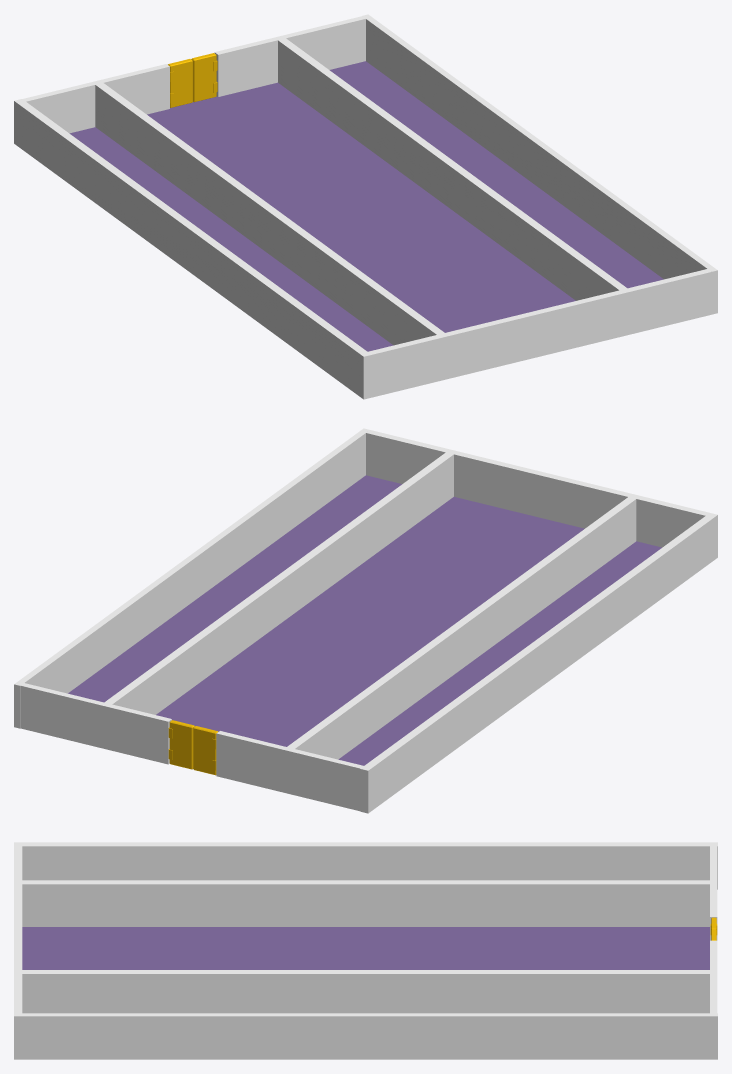
Rendered from maps_93.fbx.
3 renders of one model, top to bottom at view 1: azimuth 30°, elevation 25°; view 2: azimuth 150°, elevation 25°; view 3: azimuth 270°, elevation 25°, orthographic.
Visible parts, largest first — view 1: wall_01_08_geo, wall_01_07_geo, wall_01_07_geo3, wall_01_07_geo2, wall_01_06_geo, wall_01_05_geo, wall_01_09_geo1, wall_01_09_geo, polySurface161, polySurface165; view 2: wall_01_08_geo, wall_01_07_geo, wall_01_07_geo3, wall_01_07_geo2, wall_01_06_geo, wall_01_05_geo, wall_01_09_geo1, wall_01_09_geo, polySurface161, polySurface165; view 3: wall_01_06_geo, wall_01_07_geo3, wall_01_07_geo2, wall_01_08_geo, wall_01_07_geo, wall_01_05_geo, wall_01_09_geo, wall_01_09_geo1.
Part boxes in pixels (x1,y1,x2,y2): wall_01_08_geo: (69, 61, 663, 351); wall_01_07_geo: (14, 99, 371, 399); wall_01_07_geo3: (95, 83, 444, 345); wall_01_07_geo2: (278, 38, 627, 300); wall_01_06_geo: (362, 14, 717, 314); wall_01_05_geo: (368, 269, 711, 397); wall_01_09_geo1: (214, 16, 365, 96); wall_01_09_geo: (22, 64, 169, 133); polySurface161: (191, 53, 217, 102); polySurface165: (168, 59, 192, 107); wall_01_08_geo: (68, 475, 661, 765); wall_01_07_geo: (360, 513, 717, 813); wall_01_07_geo3: (287, 497, 636, 759); wall_01_07_geo2: (104, 452, 453, 714); wall_01_06_geo: (14, 428, 369, 728); wall_01_05_geo: (366, 430, 709, 547); wall_01_09_geo1: (20, 683, 171, 764); wall_01_09_geo: (216, 731, 363, 811); polySurface161: (168, 720, 194, 769); polySurface165: (193, 726, 217, 775); wall_01_06_geo: (14, 1013, 717, 1059); wall_01_07_geo3: (21, 880, 710, 926); wall_01_07_geo2: (21, 970, 710, 1013); wall_01_08_geo: (22, 927, 709, 969); wall_01_07_geo: (14, 842, 717, 889); wall_01_05_geo: (14, 846, 22, 1013); wall_01_09_geo: (710, 846, 717, 940); wall_01_09_geo1: (710, 940, 717, 1013).
Bounding box in the file's own units: 76.85 × 8.89 × 131.
Materials: 2 (2 with a texture image).
